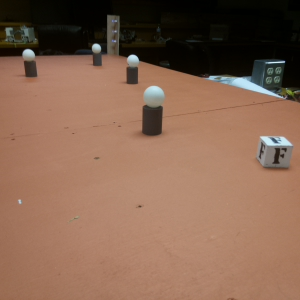blockF: (256, 134, 292, 172)
corner: (105, 13, 120, 55)
obstacle: (141, 86, 162, 137), (21, 48, 38, 77), (125, 53, 139, 83), (91, 43, 103, 67)
